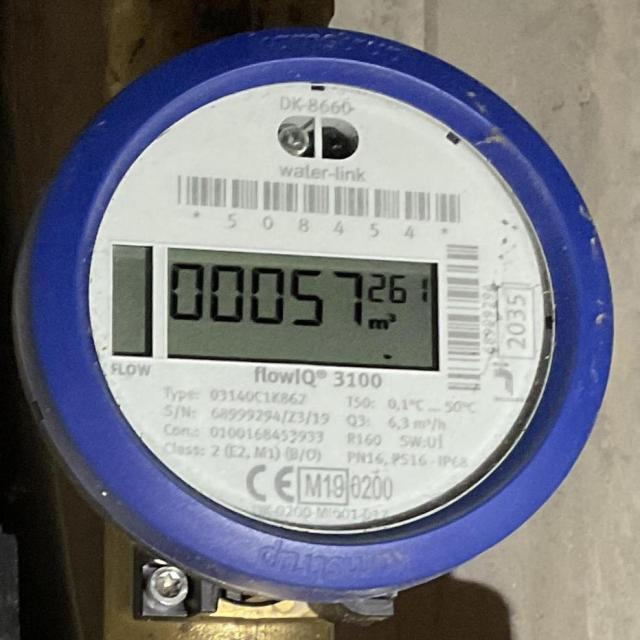gaz_meter: (89, 76, 554, 538)
indication: (166, 248, 441, 371)
